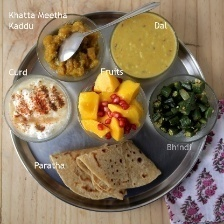dal: (110, 10, 178, 80)
